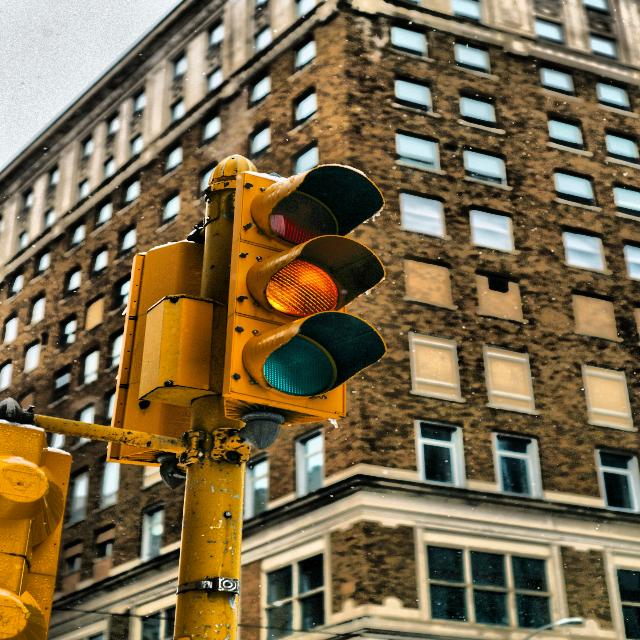yellow: (224, 186, 359, 407)
